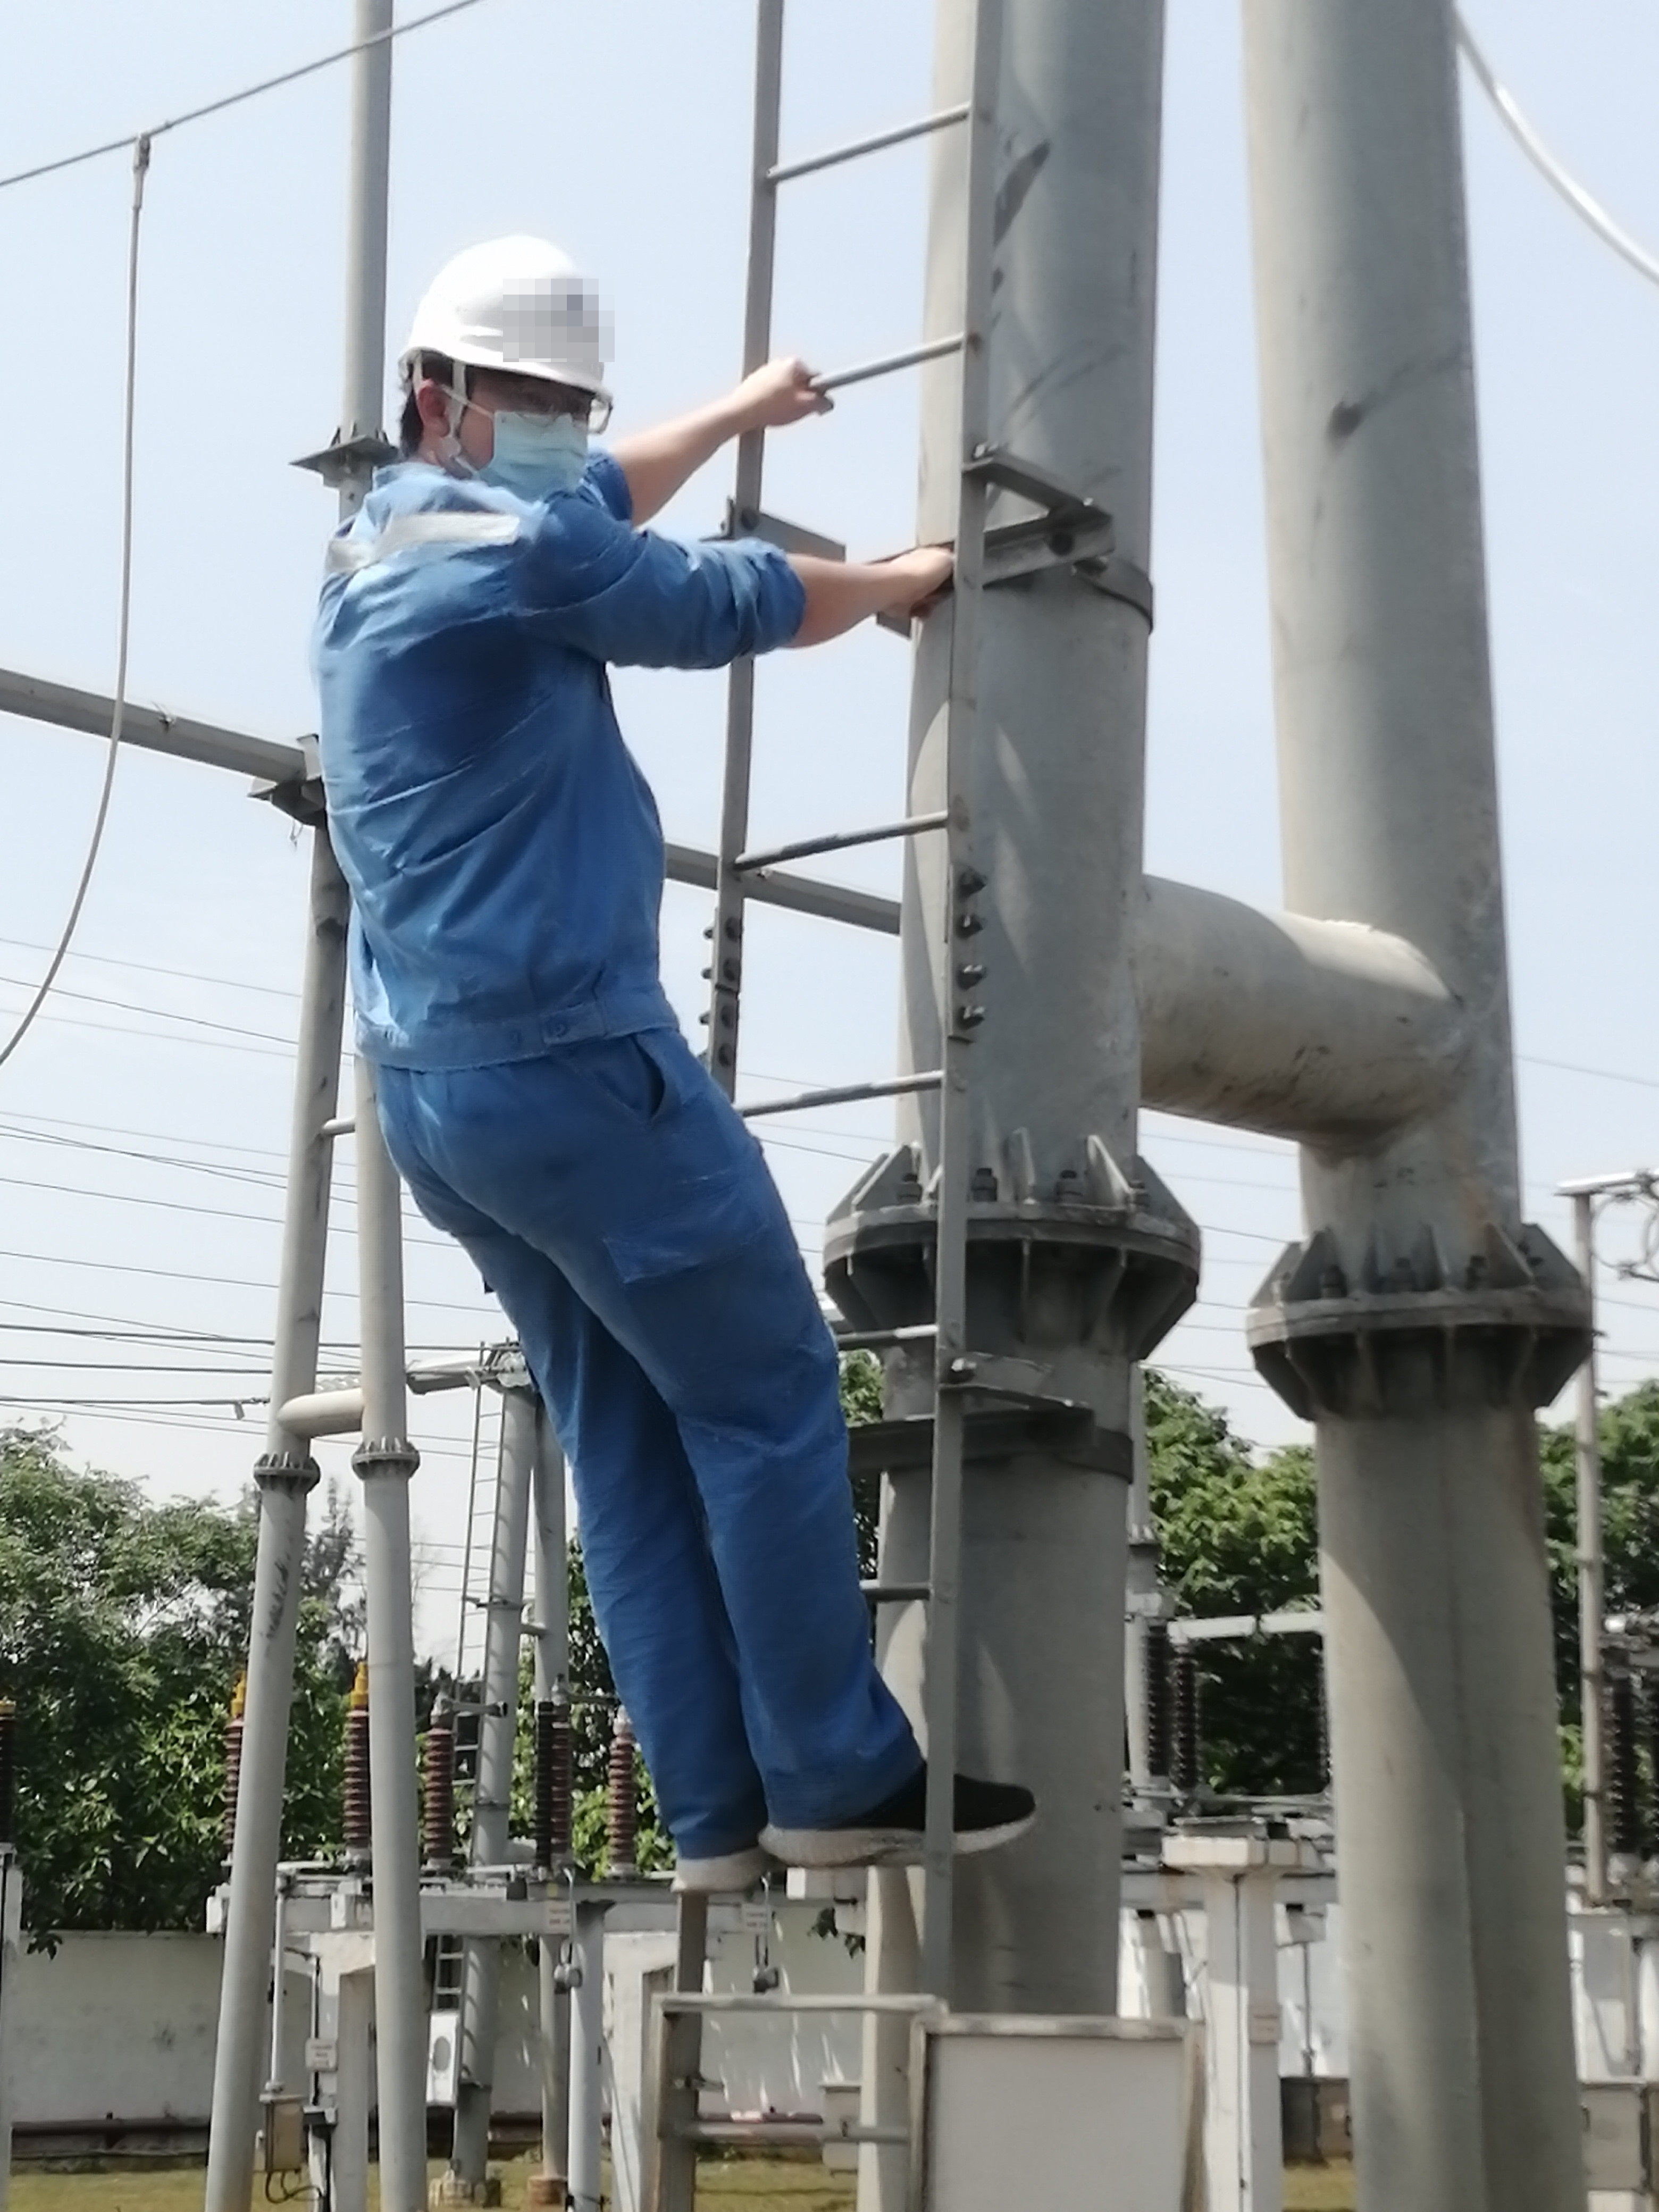downsuit: (365, 1074, 904, 1822)
halt: (392, 232, 617, 489)
hand: (732, 354, 833, 435)
inear: (400, 347, 483, 473)
person: (312, 224, 971, 1896)
upsuit: (305, 448, 810, 1057)
wrongtop: (590, 357, 829, 533), (755, 531, 962, 657)
